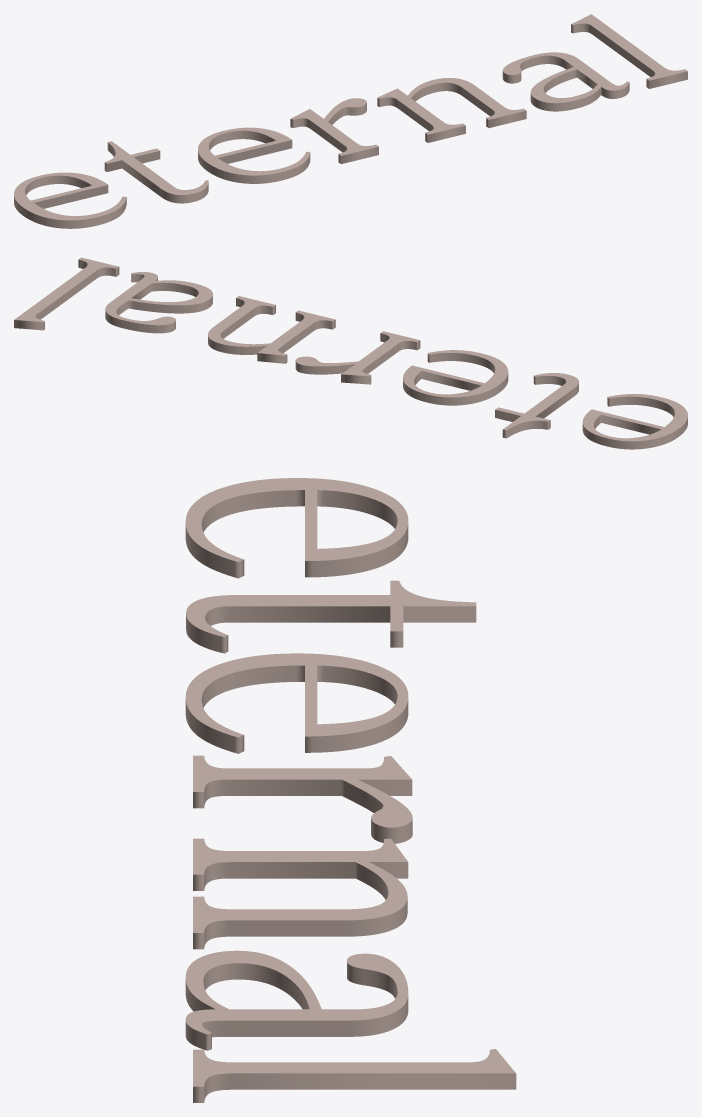
File: eternal_title.gltf
3 renders of one model, top to bottom at view 1: azimuth 30°, elevation 25°; view 2: azimuth 150°, elevation 25°; view 3: azimuth 270°, elevation 25°, orthographic. The views are drawn at different scales.
Visible parts, largest first — view 1: Text; view 2: Text; view 3: Text.
Boxes of the visible parts, x1,y1,x2,y2 form: Text: (14,14,687,228); Text: (14,257,687,449); Text: (185,478,516,1102).
Bounding box in the file's own units: 3.2 × 0.04 × 0.7337.
